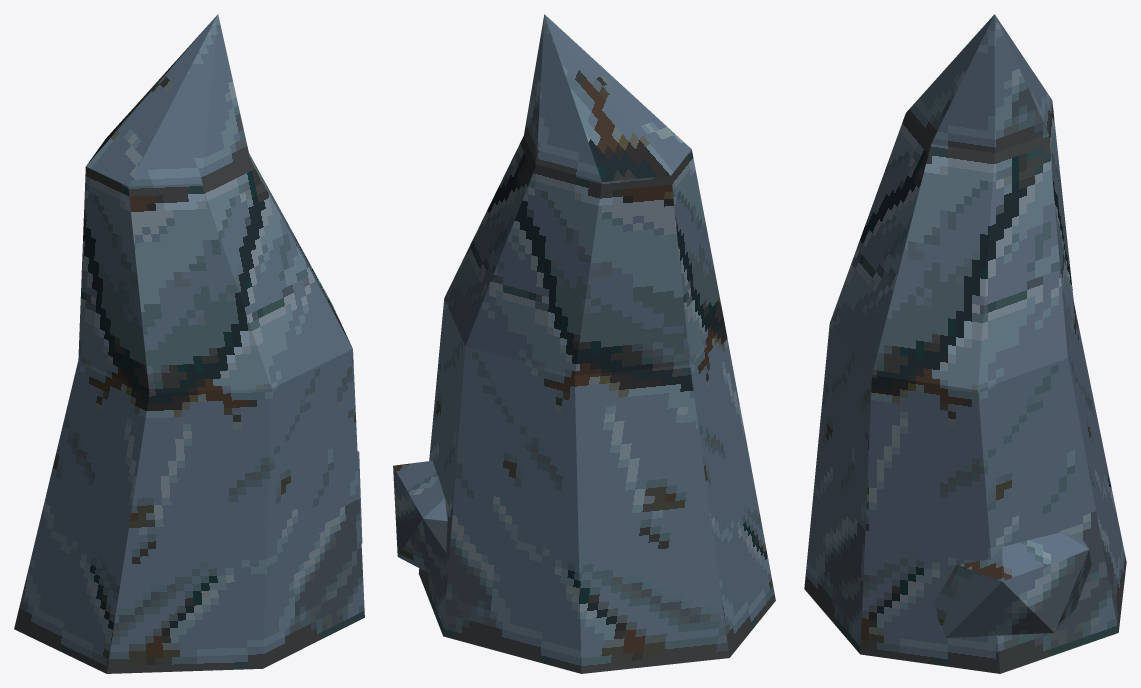
File: pedra.fbx
The picture shows the model from 3 angles, left to right: view 1: azimuth 30°, elevation 25°; view 2: azimuth 150°, elevation 25°; view 3: azimuth 270°, elevation 25°; orthographic projection. The views are drawn at different scales.
Visible parts, largest first — view 1: pedreira_pedra; view 2: pedreira_pedra; view 3: pedreira_pedra.
Boxes of the visible parts, bbox=[...] form: pedreira_pedra: bbox=[14, 14, 364, 673]; pedreira_pedra: bbox=[393, 14, 775, 673]; pedreira_pedra: bbox=[804, 14, 1126, 673].
Size of the model in its own units: 79.7 by 130 by 63.42.
Materials: 1 (1 with a texture image).
